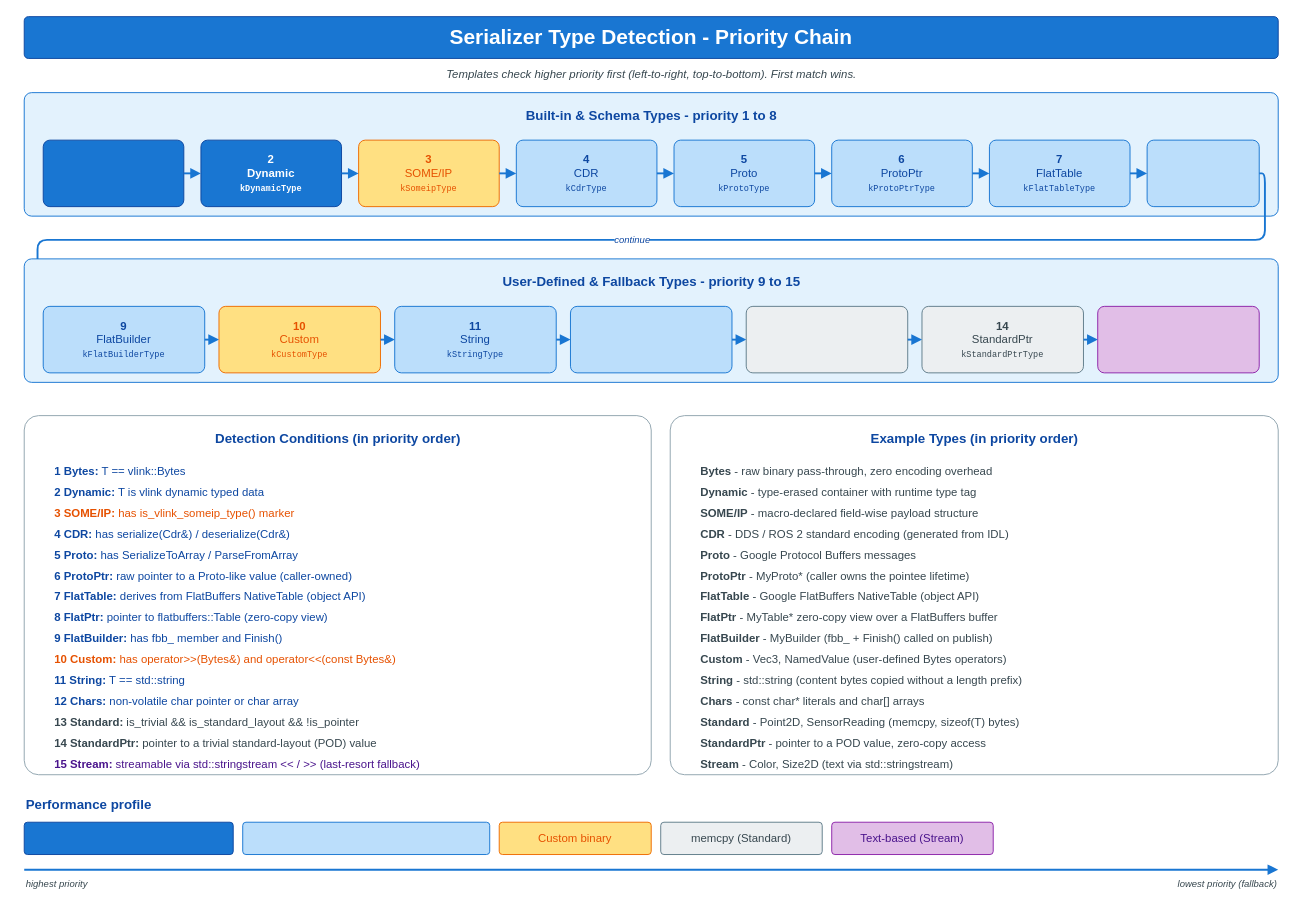
Some shapes in this 1302 by 910 pixel diagram are drawn without their labels. The shapes that lost their labels are listed below. From the top down, each one's centre as x and y in pixels, then its label:
the point at 113,173: 1 Bytes kBytesType
the point at 1202,173: 8 FlatPtr kFlatPtrType
the point at 651,339: 12 Chars kCharsType
the point at 826,339: 13 Standard kStandardType
the point at 1178,339: 15 Stream kStreamType
the point at 128,838: Highest (zero-copy)
the point at 366,838: Schema-based (CDR/Proto/Flat)
